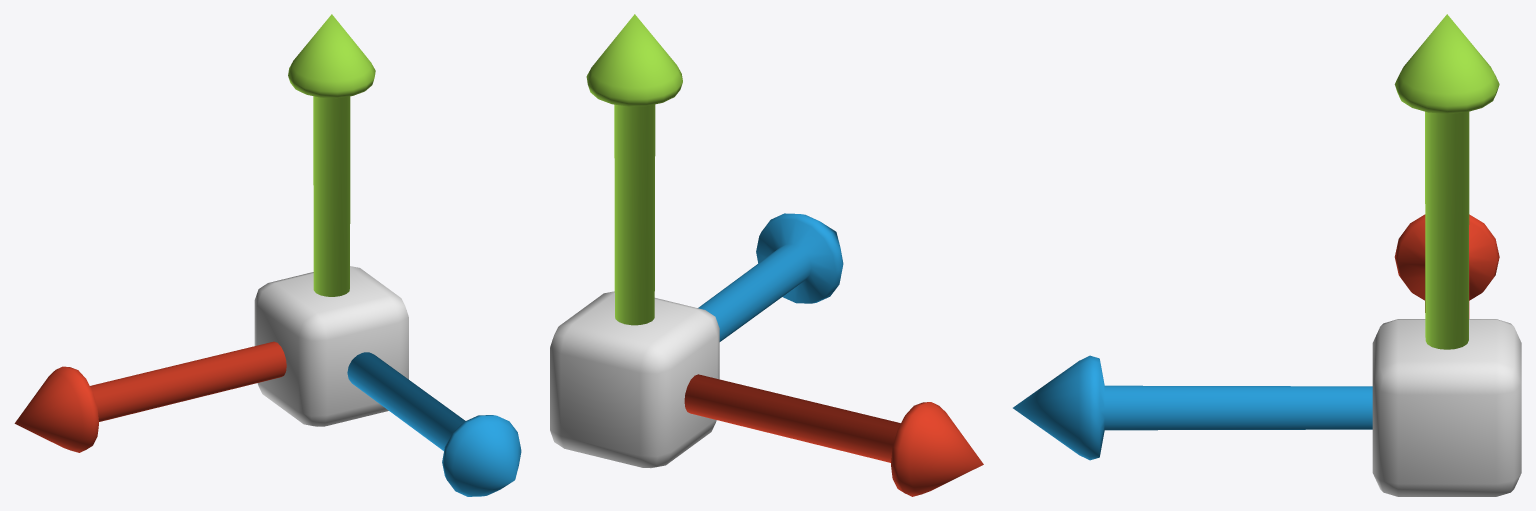
The model's file is axis.glb.
The picture shows the model from 3 angles, left to right: view 1: azimuth 30°, elevation 25°; view 2: azimuth 150°, elevation 25°; view 3: azimuth 270°, elevation 25°; orthographic projection. The views are drawn at different scales.
Parts seen in each view (by area): view 1: Cube, Cylinder, Cylinder.002, Cylinder.001; view 2: Cube, Cylinder, Cylinder.002, Cylinder.001; view 3: Cube, Cylinder.001, Cylinder, Cylinder.002.
Part boxes in pixels (left/top/right/bottom): Cube: left=254, top=266, right=408, bottom=426; Cylinder: left=288, top=14, right=375, bottom=296; Cylinder.002: left=14, top=341, right=286, bottom=452; Cylinder.001: left=347, top=352, right=521, bottom=496; Cube: left=550, top=291, right=719, bottom=468; Cylinder: left=586, top=14, right=682, bottom=325; Cylinder.002: left=684, top=374, right=983, bottom=496; Cylinder.001: left=698, top=213, right=843, bottom=341; Cube: left=1372, top=319, right=1521, bottom=496; Cylinder.001: left=1013, top=355, right=1372, bottom=460; Cylinder: left=1394, top=14, right=1499, bottom=349; Cylinder.002: left=1394, top=214, right=1499, bottom=318.
Bounding box in the file's own units: 6.85 × 6.85 × 6.85.
Materials: 1 (1 with a texture image).
